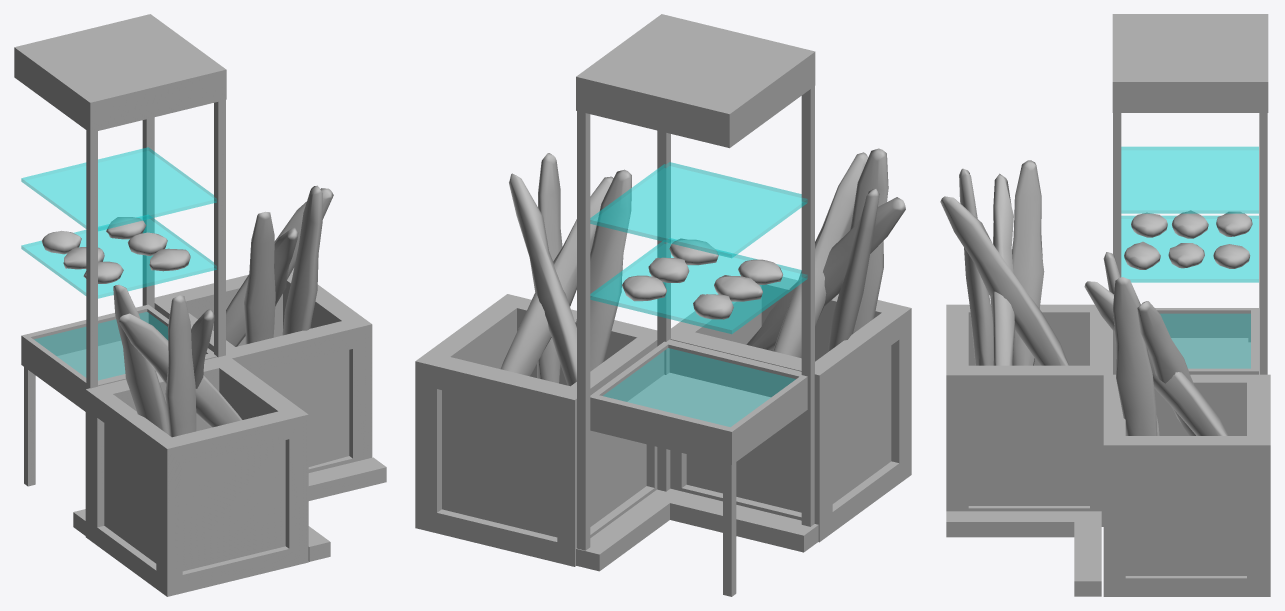
Rendered from bread shelves.fbx.
3 views of the same model, side by side, from view 1: azimuth 30°, elevation 25°; view 2: azimuth 150°, elevation 25°; view 3: azimuth 270°, elevation 25° (orthographic). The views are drawn at different scales.
Visible parts, largest first — view 1: polySurface8693; view 2: polySurface8693; view 3: polySurface8693.
Part boxes in pixels (box(x1,y1,x2,y2)): polySurface8693: box(14, 14, 386, 596); polySurface8693: box(415, 14, 911, 596); polySurface8693: box(940, 14, 1270, 596).
Bounding box in the file's own units: 7.68 × 10.48 × 7.07.
